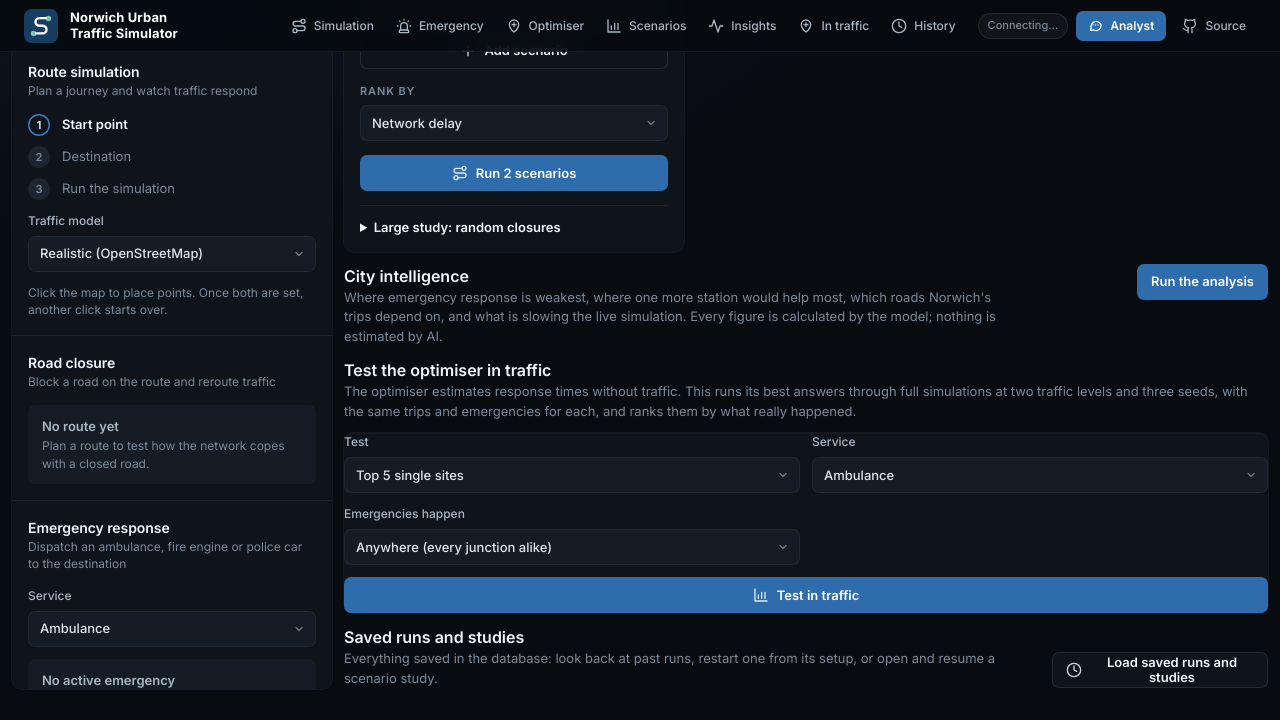
Test: the History section › says why when there is no database
(page scrolled)
Click the button "Load saved runs and studies": (1160, 670) [1052,652,1268,688]
(page scrolled)
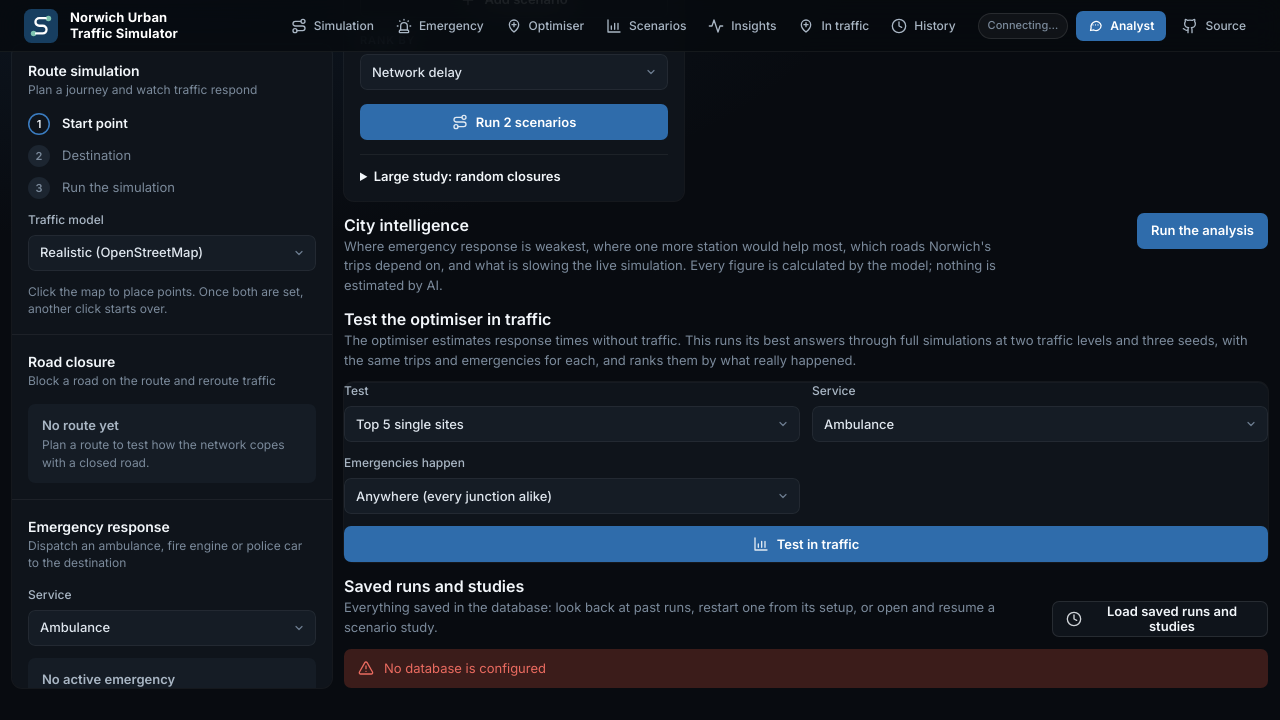
Result: the message "No database is configured" is shown at [344,649,1268,688]
